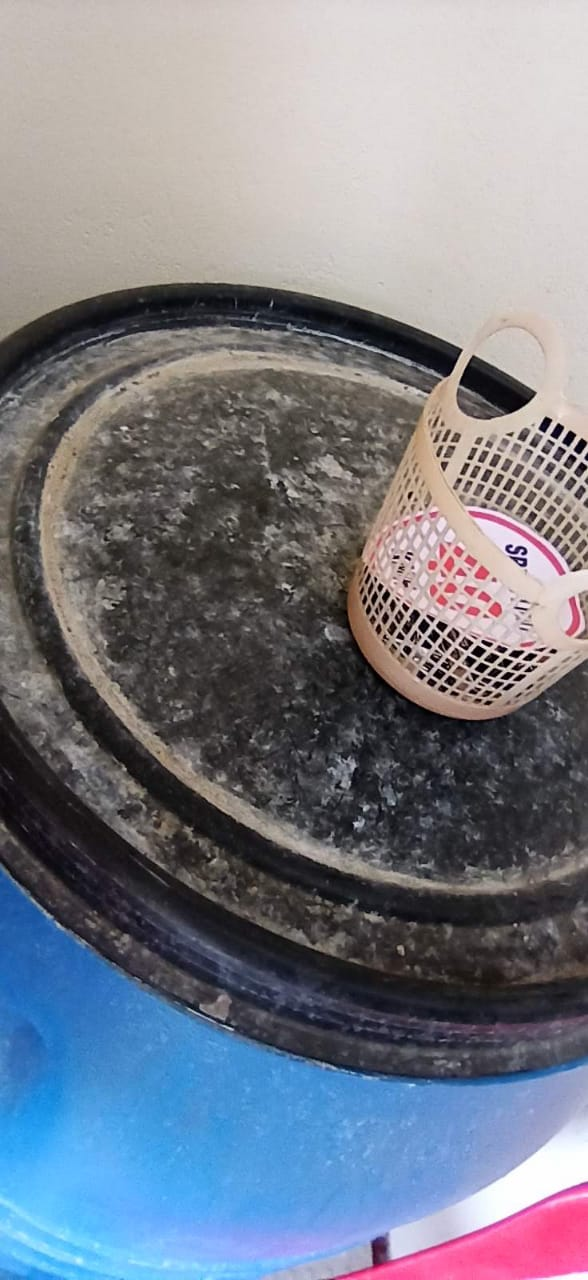SPEED LIMIT (40 KM/H): (363, 507, 588, 656)
